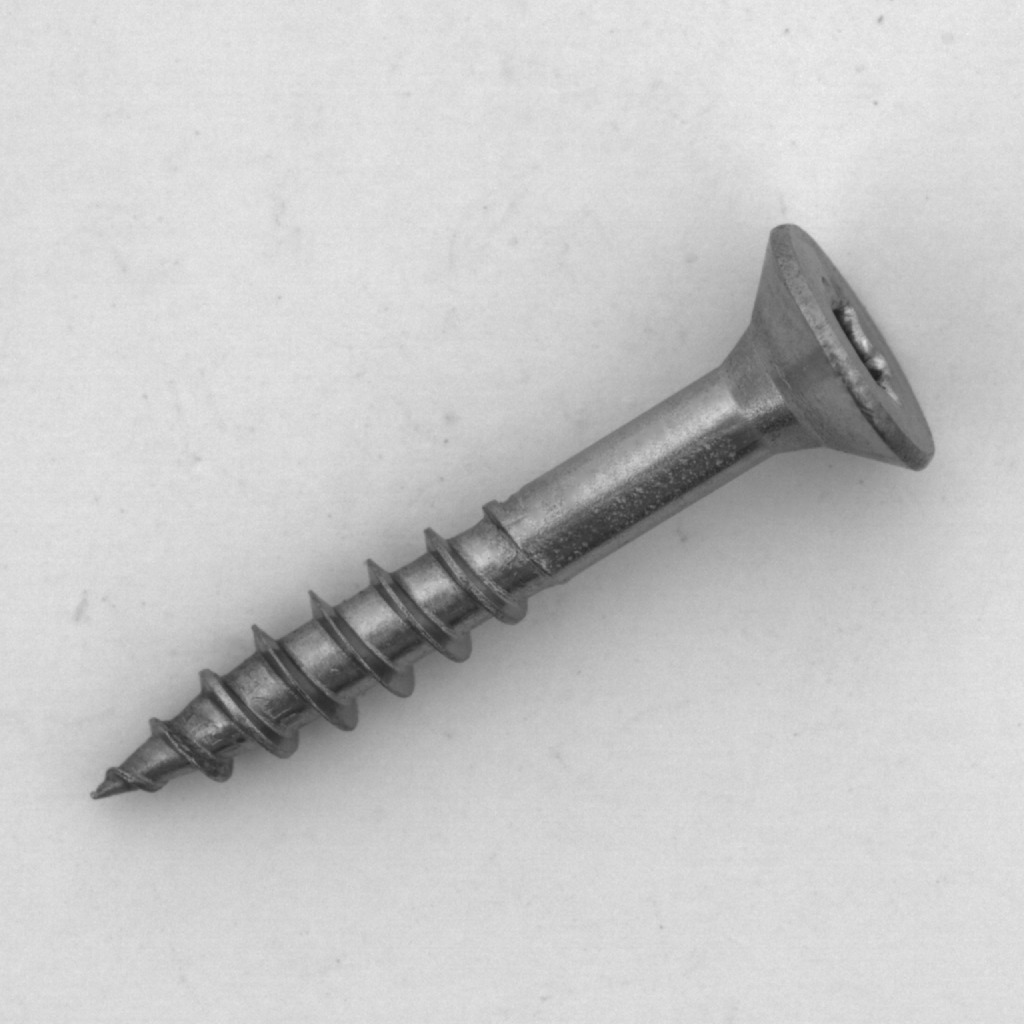good: (66, 211, 951, 820)
